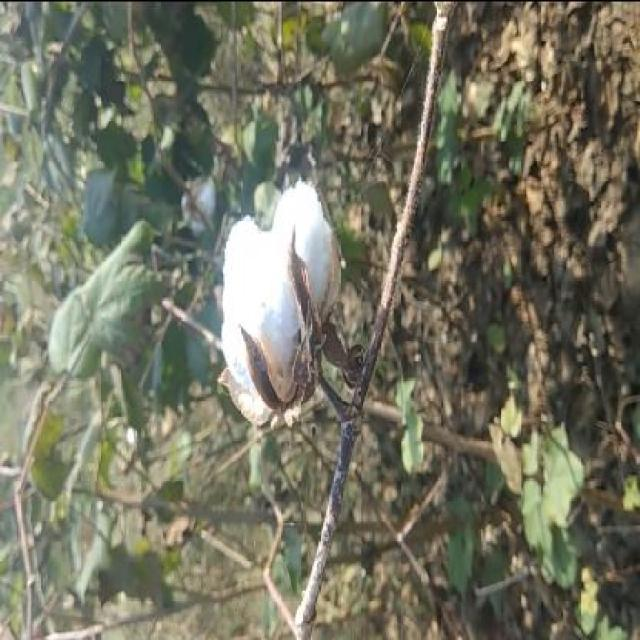cotton_ready: (197, 172, 431, 510)
